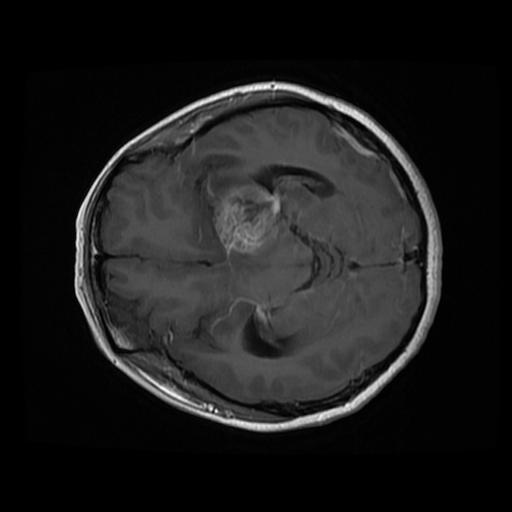glioma: (204, 166, 280, 257)
